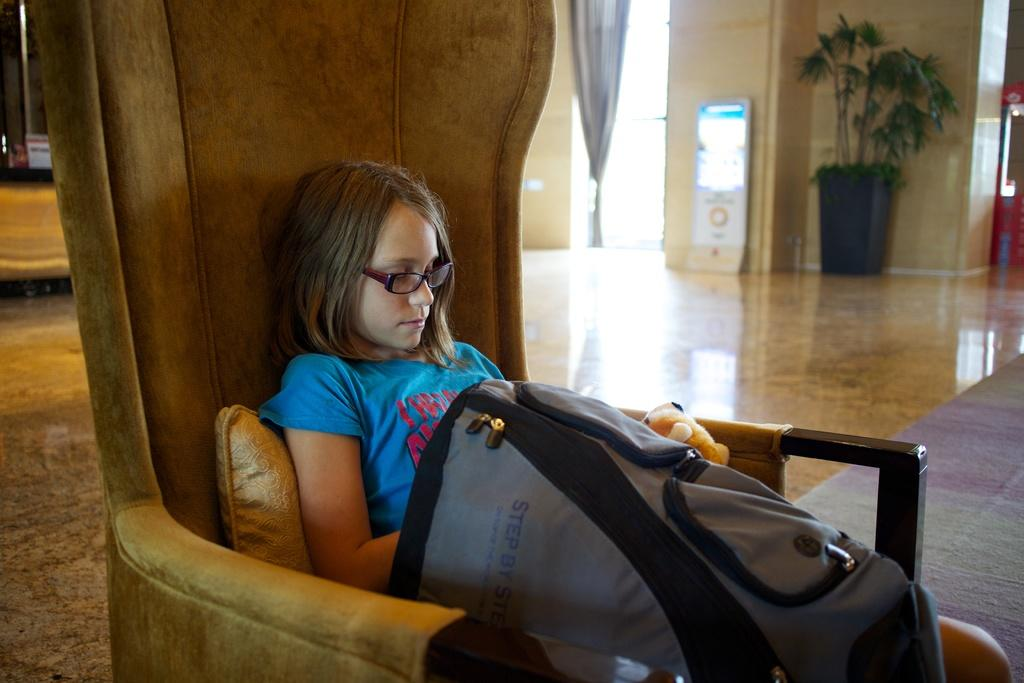Luggage-and-bags: (336, 406, 939, 673)
